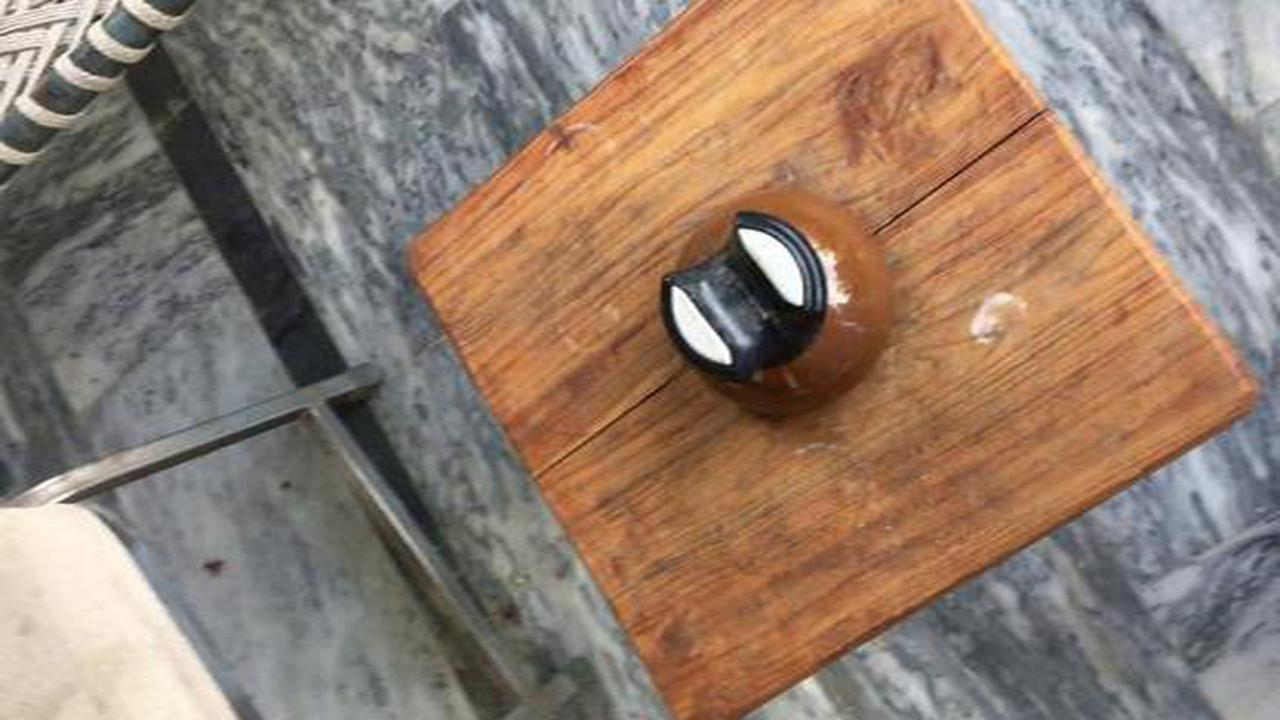insulator_pin: (644, 182, 911, 430)
